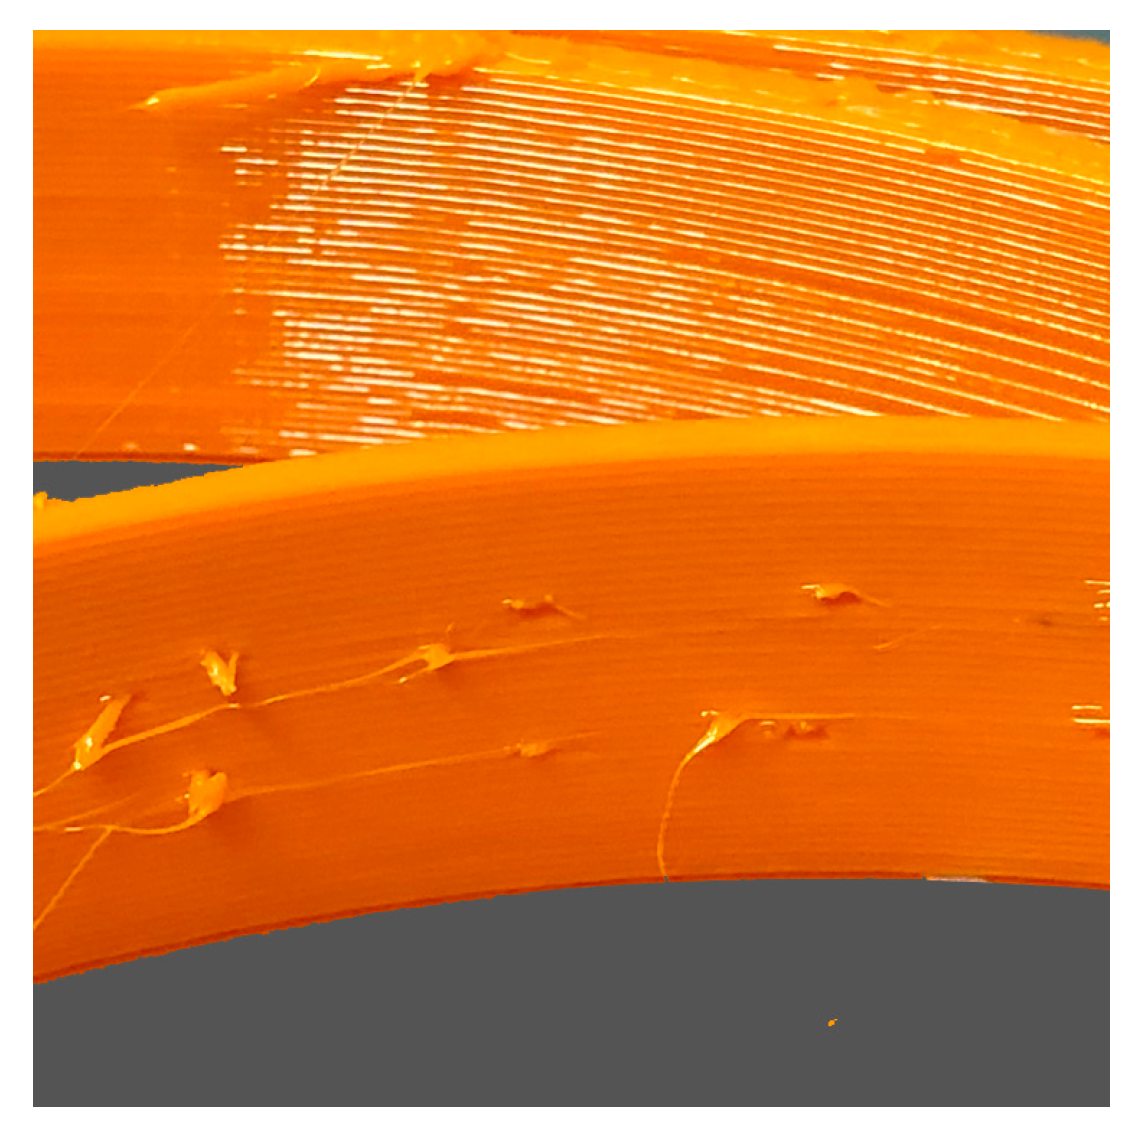blob: (52, 686, 167, 769), (159, 746, 259, 835), (792, 565, 885, 630), (499, 714, 592, 777), (179, 656, 278, 712), (688, 699, 784, 748), (489, 589, 567, 628)
